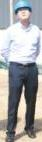boots: (5, 131, 15, 142), (0, 130, 9, 138)
hard-hat: (14, 0, 32, 13)
